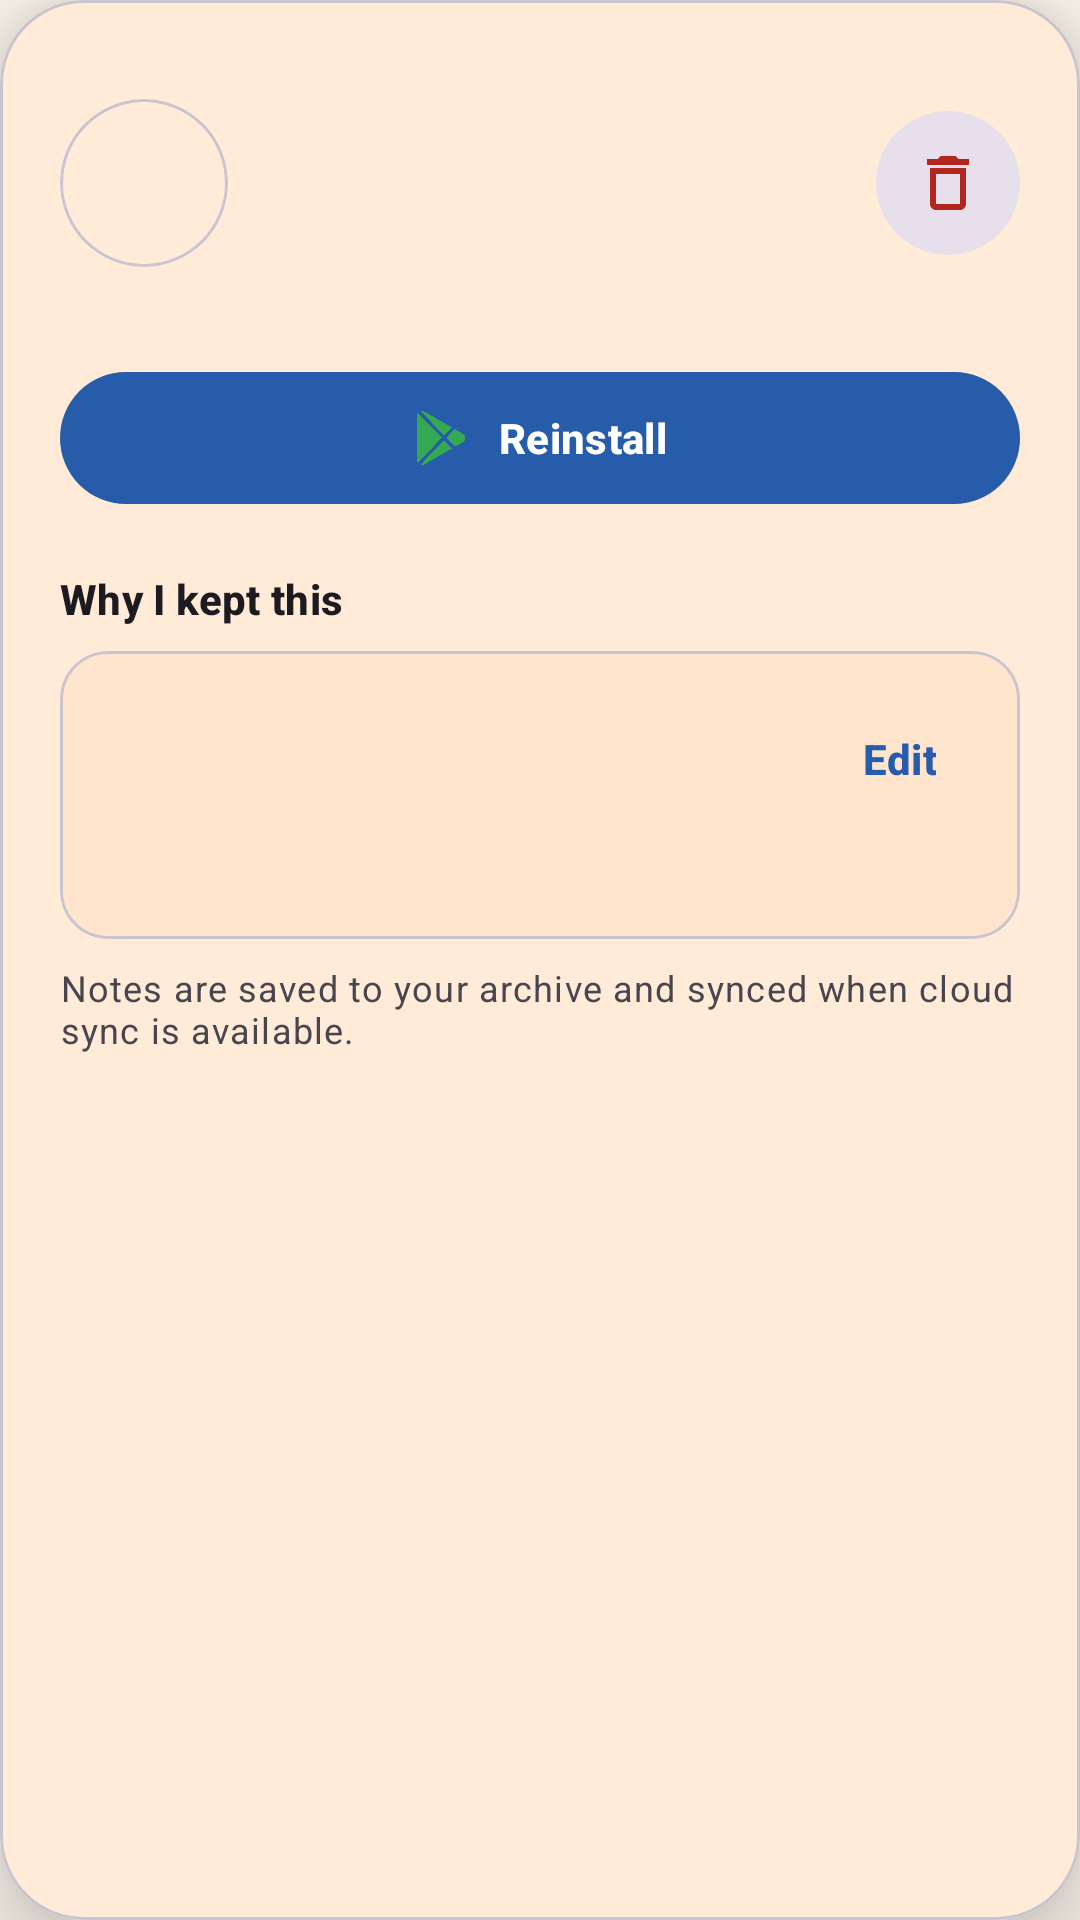

Icons on this 1080x1920 Android screen, each with its box as (x1, y1, x2, y2):
Remove app from archive: (876, 111, 1020, 255)
